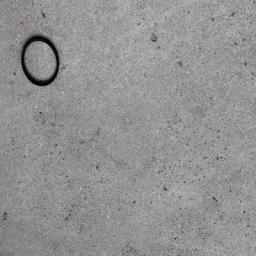FOD: (20, 35, 63, 89)
